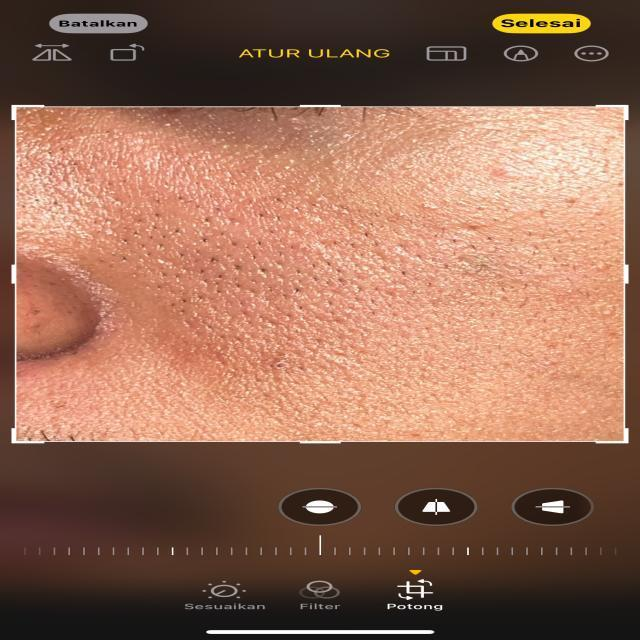blackhead: (73, 188, 474, 361)
